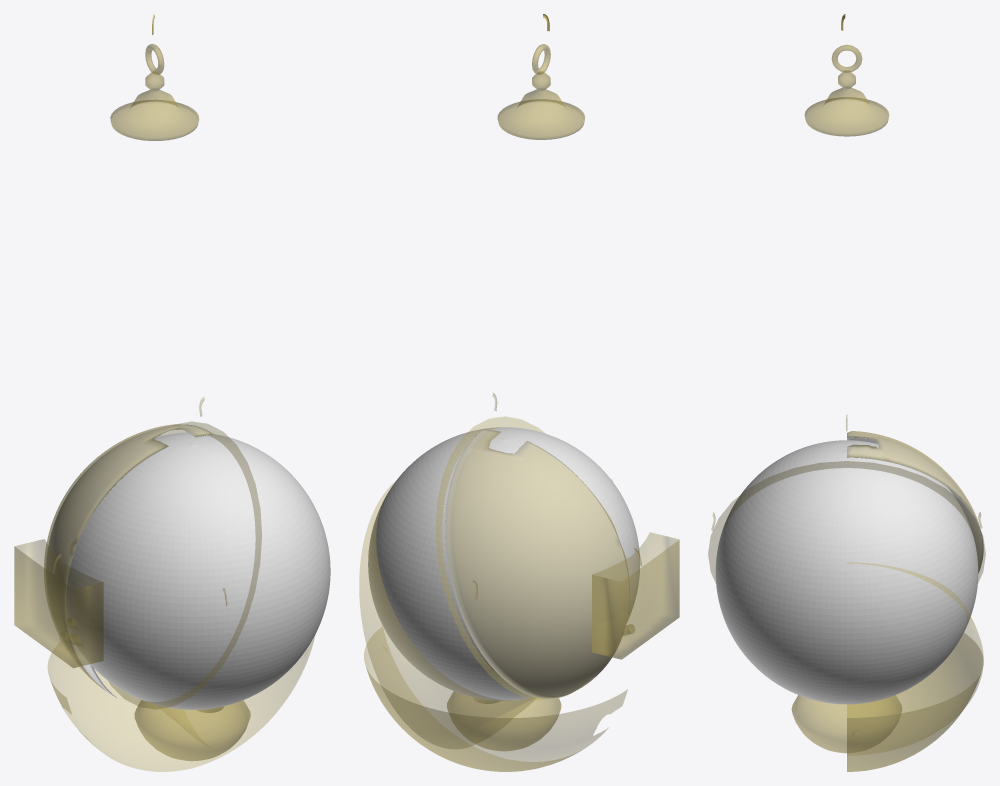
The model's file is lampe_astrale.glb.
3 views of the same model, side by side, from view 1: azimuth 30°, elevation 25°; view 2: azimuth 150°, elevation 25°; view 3: azimuth 270°, elevation 25° (orthographic). The views are drawn at different scales.
Parts seen in each view (by area): view 1: sphere, coupole.001, reserve, coupole, Sphere, attache, reflecteur; view 2: coupole, sphere, coupole.001, coupole_parabole, reserve, Sphere, attache, reflecteur; view 3: sphere, coupole.001, coupole_parabole, Sphere, attache, reflecteur, coupole.
Part boxes in pixels (x1,y1,x2,y2): sphere: (66,432,330,709); coupole.001: (48,636,314,771); reserve: (14,539,103,668); coupole: (44,424,213,697); Sphere: (134,700,250,761); attache: (110,71,199,140); reflecteur: (108,421,261,709); coupole: (445,429,629,698); sphere: (368,427,639,700); coupole.001: (364,626,627,771); coupole_parabole: (359,481,535,748); reserve: (592,532,679,659); Sphere: (447,691,561,750); attache: (497,71,584,139); reflecteur: (436,416,546,699); sphere: (715,440,978,704); coupole.001: (847,633,983,771); coupole_parabole: (847,562,983,755); Sphere: (791,695,902,753); attache: (804,70,889,136); reflecteur: (708,461,985,582); coupole: (847,431,983,573).
Size of what is drawn, in the model's own units: 0.4774 by 1.28 by 0.4442.
